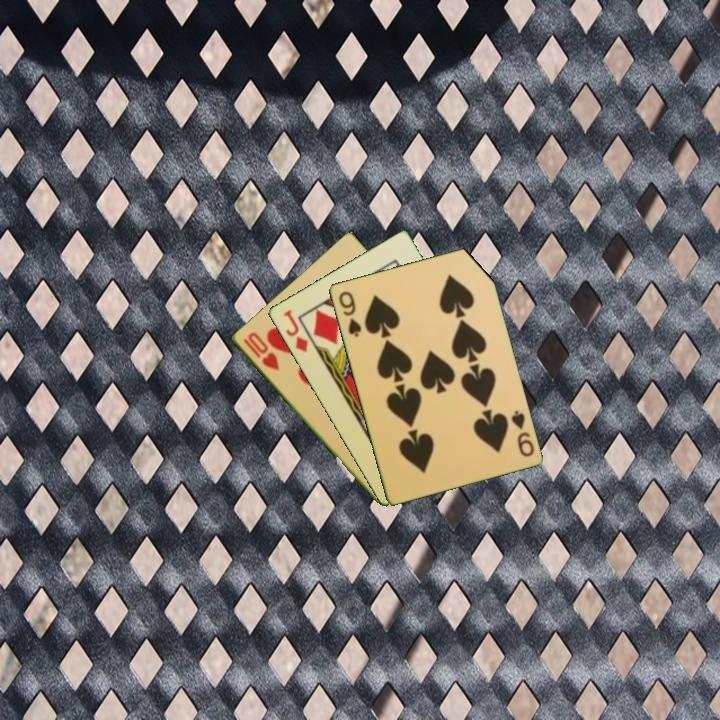10h: (239, 328, 282, 373)
9s: (507, 407, 537, 460), (335, 287, 364, 340)
Jd: (279, 306, 311, 355)
